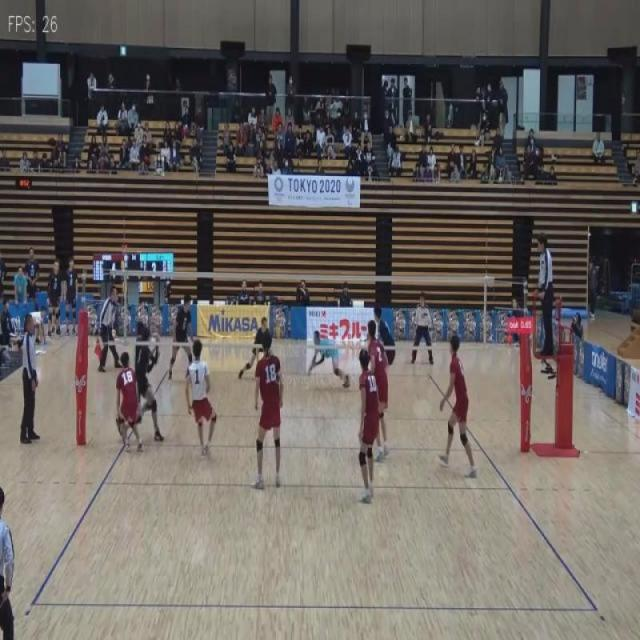volleyball: (275, 325, 283, 340)
